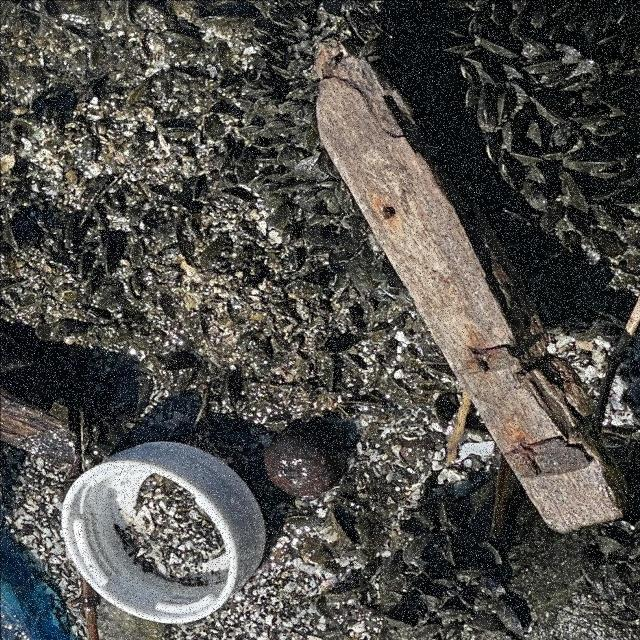plastic_waste: (57, 437, 265, 623)
wood_waste: (311, 47, 640, 535)
